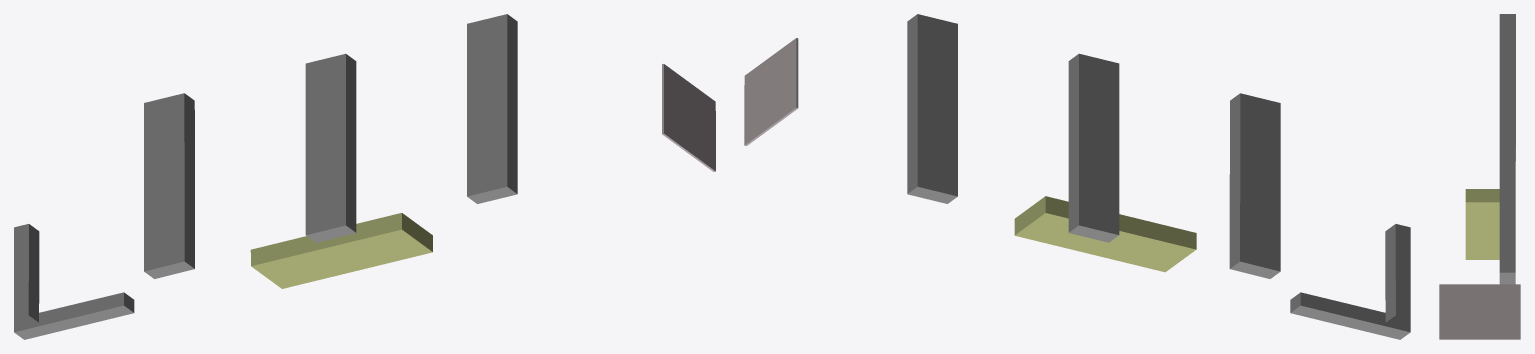
3 renders of one model, left to right at view 1: azimuth 30°, elevation 25°; view 2: azimuth 150°, elevation 25°; view 3: azimuth 270°, elevation 25°, orthographic. The views are drawn at different scales.
Parts seen in each view (by area): view 1: 0_2_0_1_1_2_2_0; view 2: 0_2_0_1_1_2_2_0; view 3: 0_2_0_1_1_2_2_0.
Boxes of the visible parts, <box> form: 0_2_0_1_1_2_2_0: <box>14,14,715,339</box>; 0_2_0_1_1_2_2_0: <box>744,14,1410,339</box>; 0_2_0_1_1_2_2_0: <box>1439,14,1520,339</box>.
Bounding box in the file's own units: 109 × 31.62 × 15.
